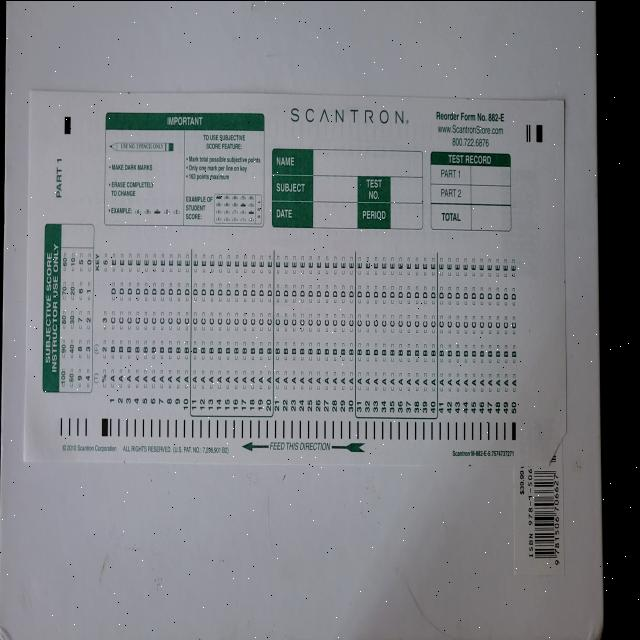scantron: (22, 89, 566, 467)
